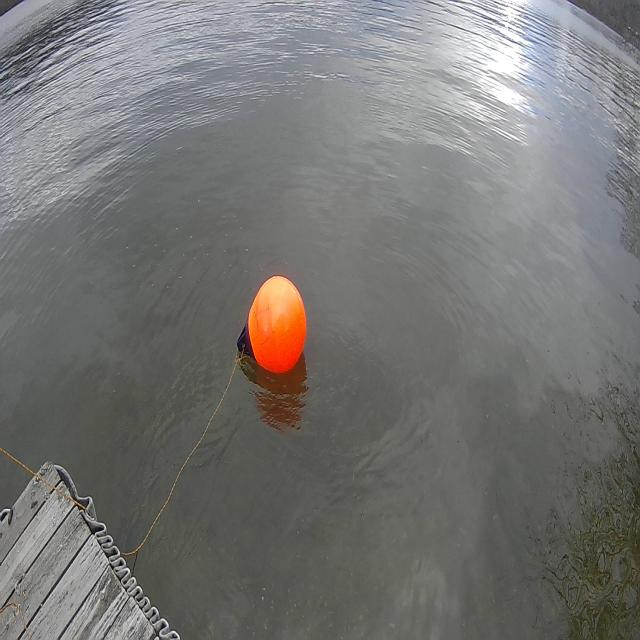Buoy: (246, 268, 309, 379)
